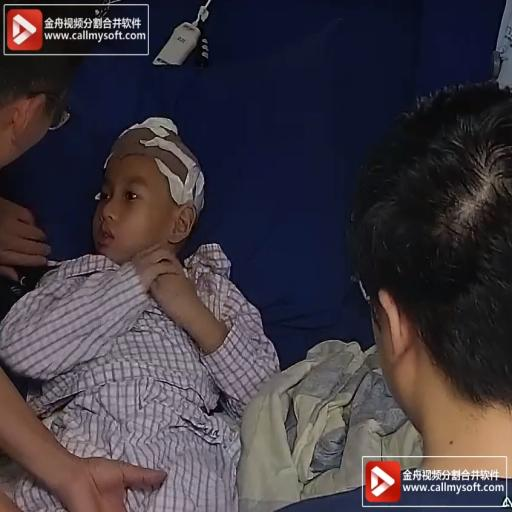Seizure: (101, 158, 201, 241)
